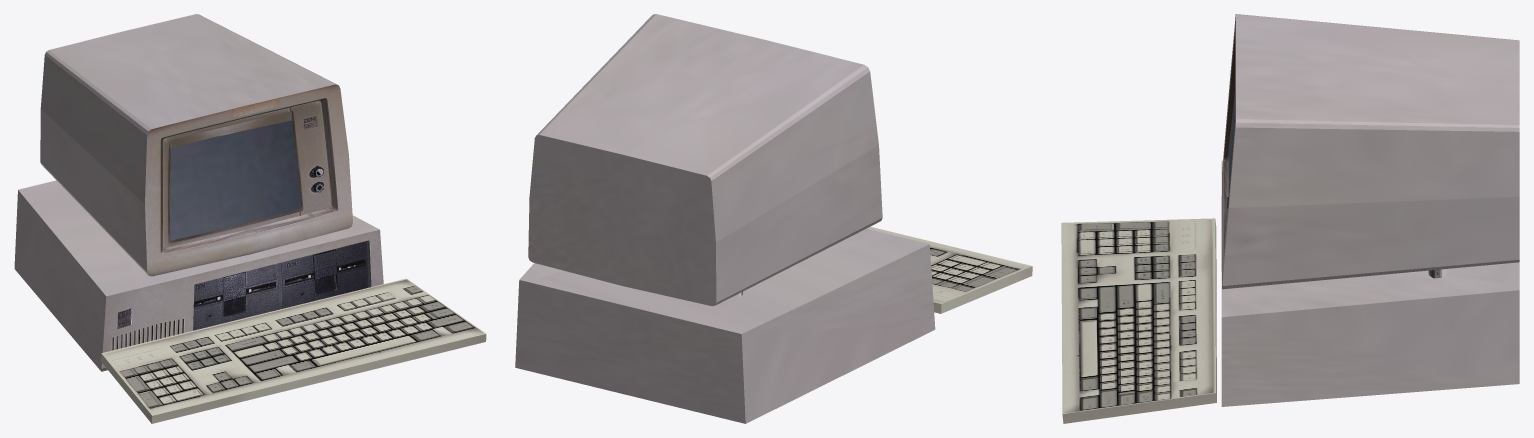
The picture shows the model from 3 angles, left to right: view 1: azimuth 30°, elevation 25°; view 2: azimuth 150°, elevation 25°; view 3: azimuth 270°, elevation 25°; orthographic projection. The views are drawn at different scales.
Visible parts, largest first — view 1: 电脑; view 2: 电脑; view 3: 电脑.
Boxes of the visible parts, x1=… form: 电脑: x1=14, y1=14, x2=486, y2=423; 电脑: x1=515, y1=14, x2=1032, y2=423; 电脑: x1=1061, y1=14, x2=1519, y2=423.
Bounding box in the file's own units: 149 × 95.44 × 150.
